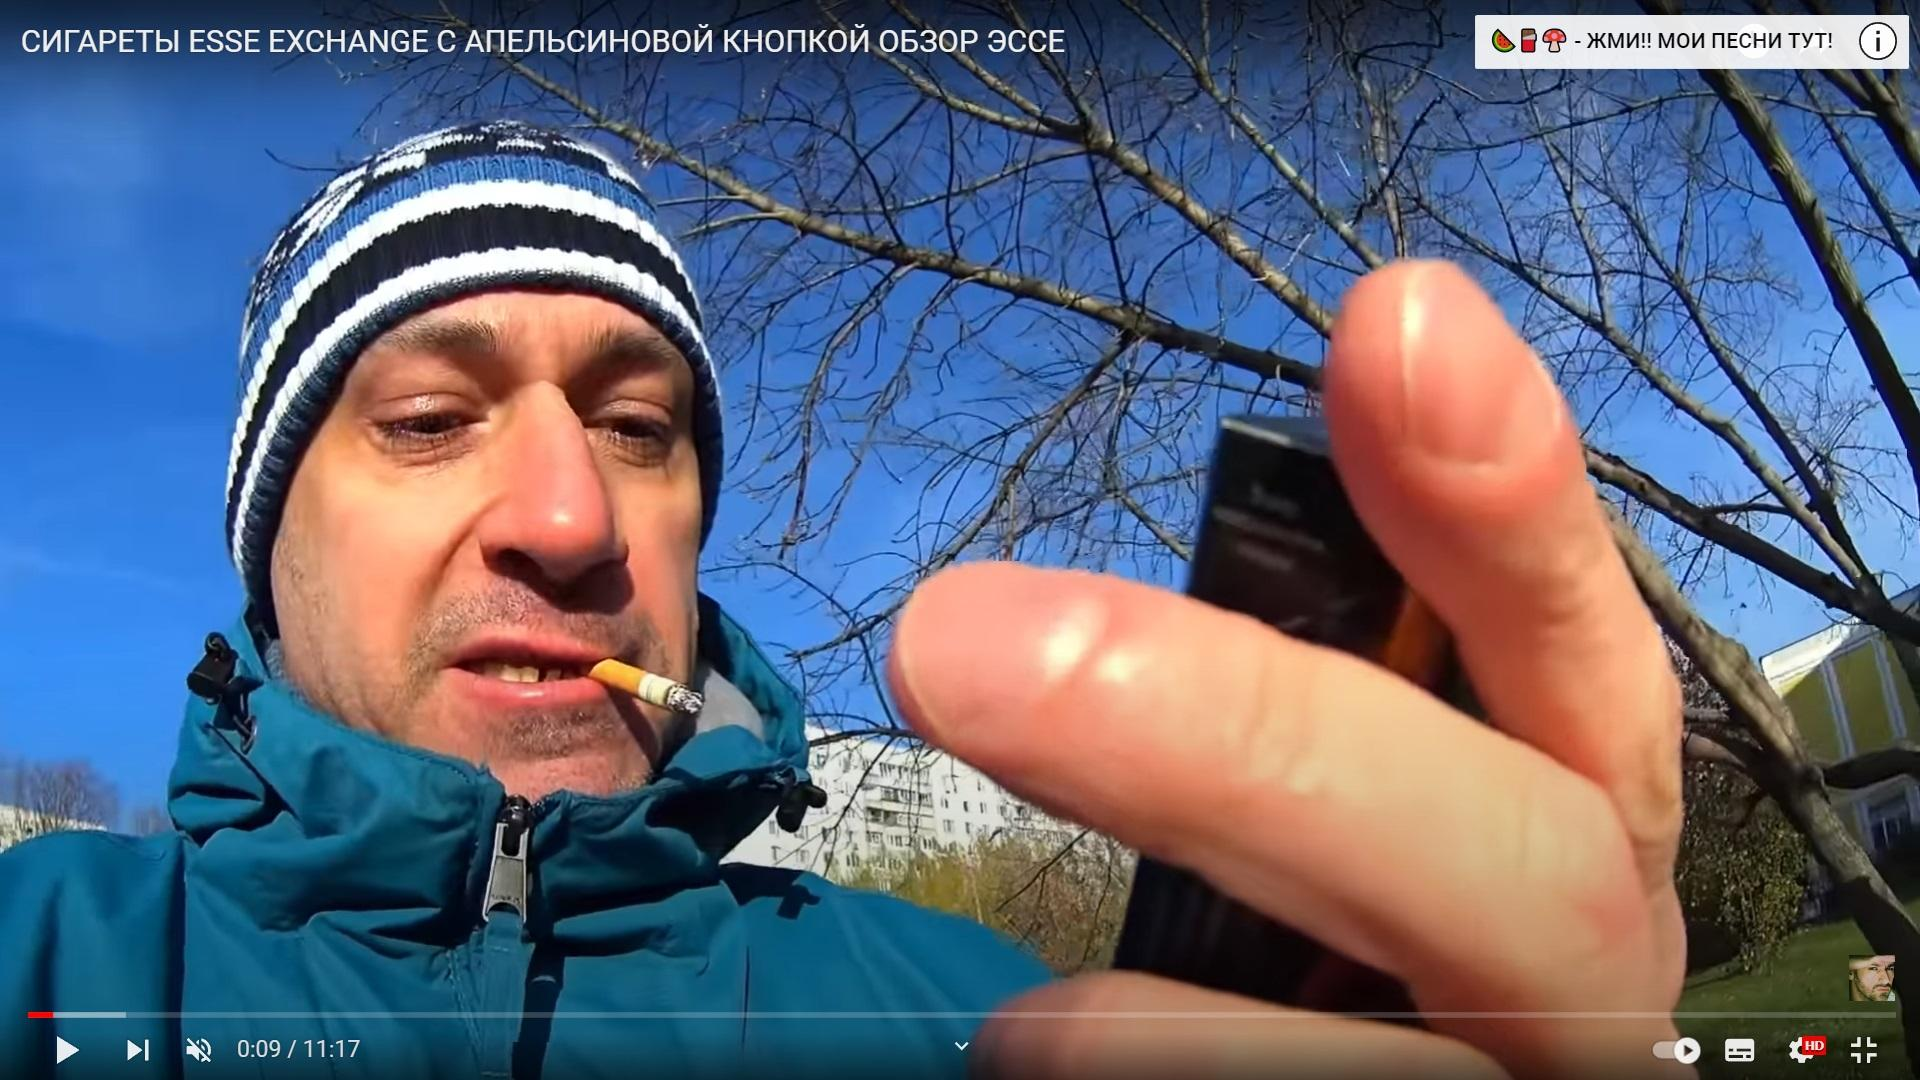cigarette: (574, 659, 705, 717)
